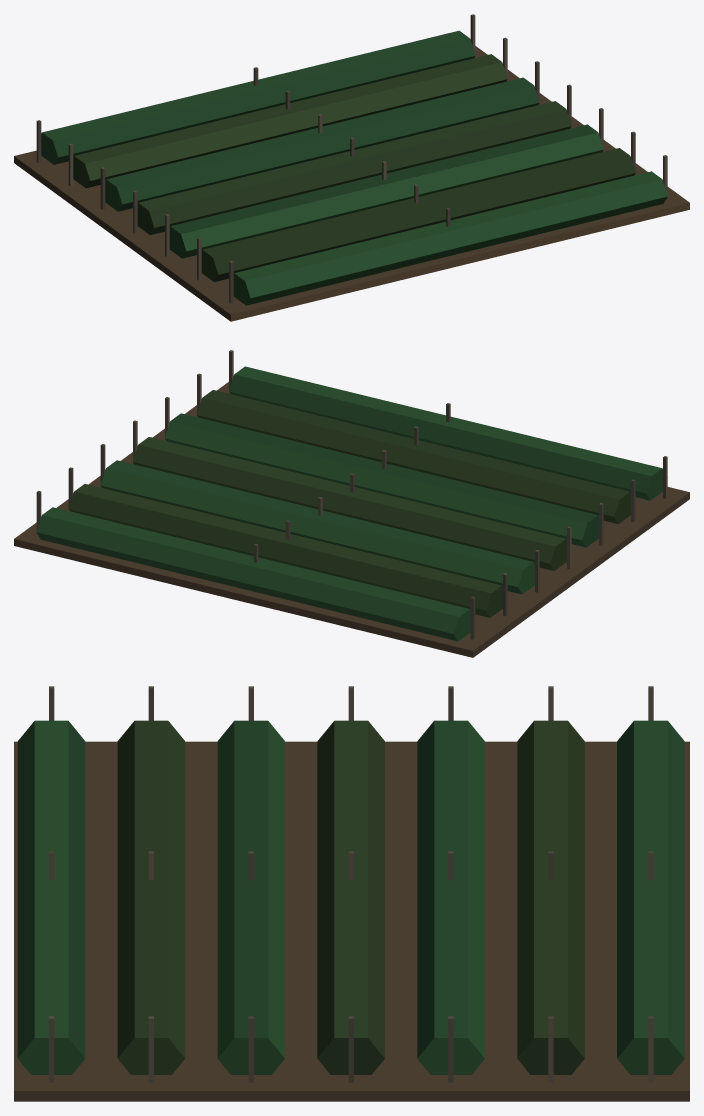
The model's file is yard_vines.glb.
3 renders of one model, top to bottom at view 1: azimuth 30°, elevation 25°; view 2: azimuth 150°, elevation 25°; view 3: azimuth 270°, elevation 25°, orthographic. The views are drawn at different scales.
Visible parts, largest first — view 1: yard_vines; view 2: yard_vines; view 3: yard_vines.
Boxes of the visible parts, x1,y1,x2,y2 form: yard_vines: (14,14,689,321); yard_vines: (14,350,689,657); yard_vines: (14,686,689,1101).
Size of the model in its own units: 11 by 1.1 by 9.
Materials: 1 (1 with a texture image).
